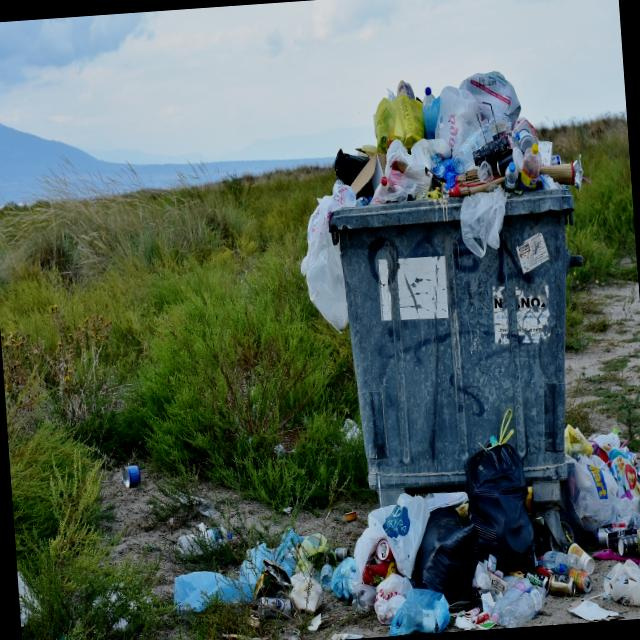garbage: (148, 49, 640, 640)
